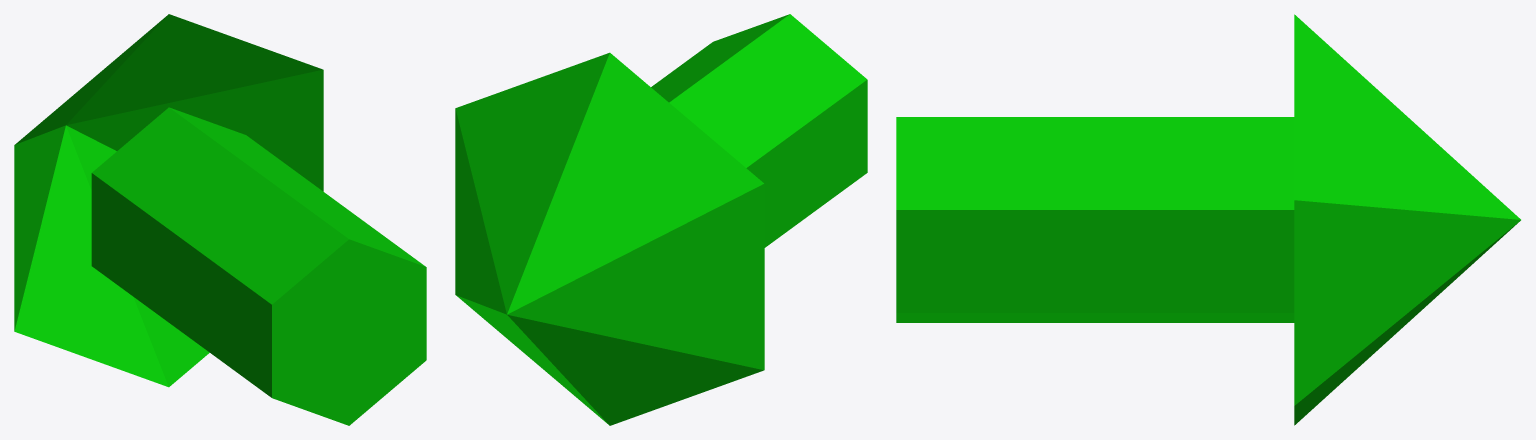
File: green_arrow.obj
The picture shows the model from 3 angles, left to right: view 1: azimuth 30°, elevation 25°; view 2: azimuth 150°, elevation 25°; view 3: azimuth 270°, elevation 25°; orthographic projection. The views are drawn at different scales.
Bounding box in the file's own units: 1.73 × 2 × 2.75.
